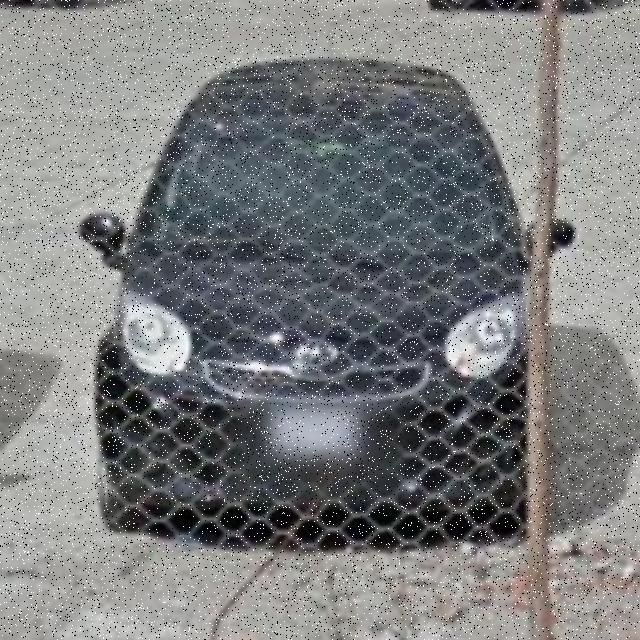cars: (84, 52, 526, 552)
